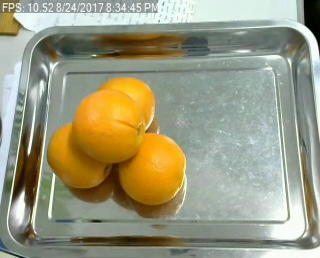Orange: (73, 86, 138, 162), (118, 132, 185, 204), (45, 120, 110, 187), (95, 77, 155, 136)
